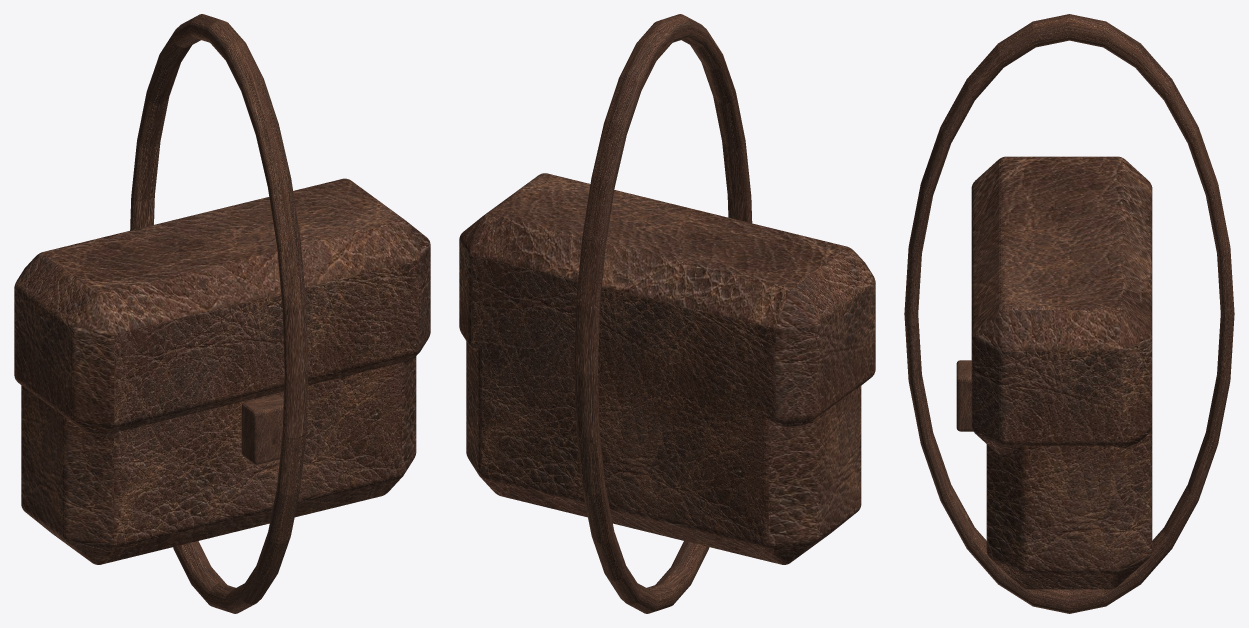
The model's file is leather-satchel-v01.glb.
3 views of the same model, side by side, from view 1: azimuth 30°, elevation 25°; view 2: azimuth 150°, elevation 25°; view 3: azimuth 270°, elevation 25° (orthographic).
Visible parts, largest first — view 1: leather-satchel; view 2: leather-satchel; view 3: leather-satchel.
Boxes of the visible parts, box(x1,y1,x2,y2) form: leather-satchel: box(14, 14, 430, 613); leather-satchel: box(459, 14, 875, 613); leather-satchel: box(904, 14, 1234, 613).
Size of the model in its own units: 0.56 by 0.8767 by 0.4383.
Materials: 2 (2 with a texture image).
